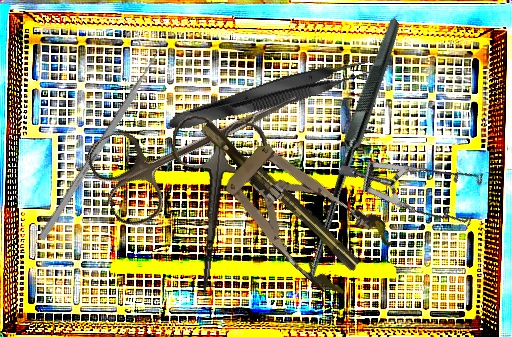Handpiece: (225, 139, 363, 274)
Hook Surgical: (218, 17, 502, 299)
Iris Scissors: (81, 51, 316, 233), (154, 113, 271, 302)
Pusher: (38, 36, 170, 242)
Speculum: (174, 90, 400, 305), (337, 99, 502, 265)
Tissue Forceps: (163, 51, 376, 139)
